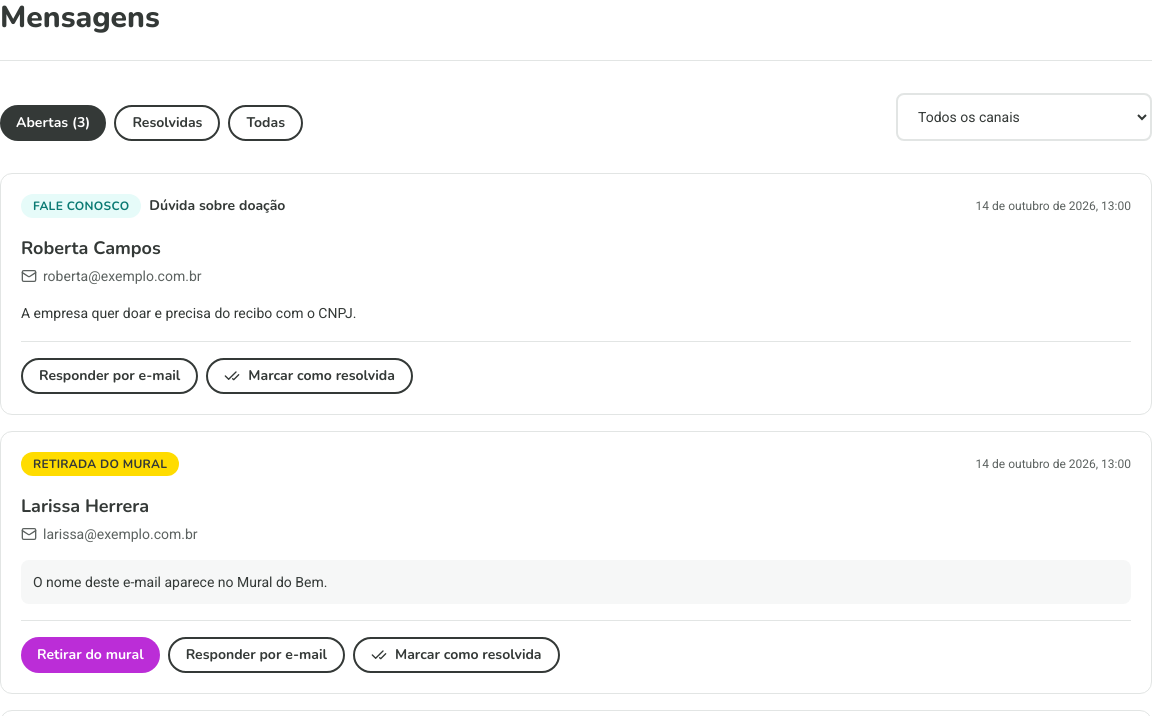
Test case: caixa de entrada do painel › retira do mural só o pedido cujo e-mail aparece nele, depois de confirmar
The image size is (1152, 716).
Click the button "Retirar do mural" at [90, 655], box [21,637,160,673]
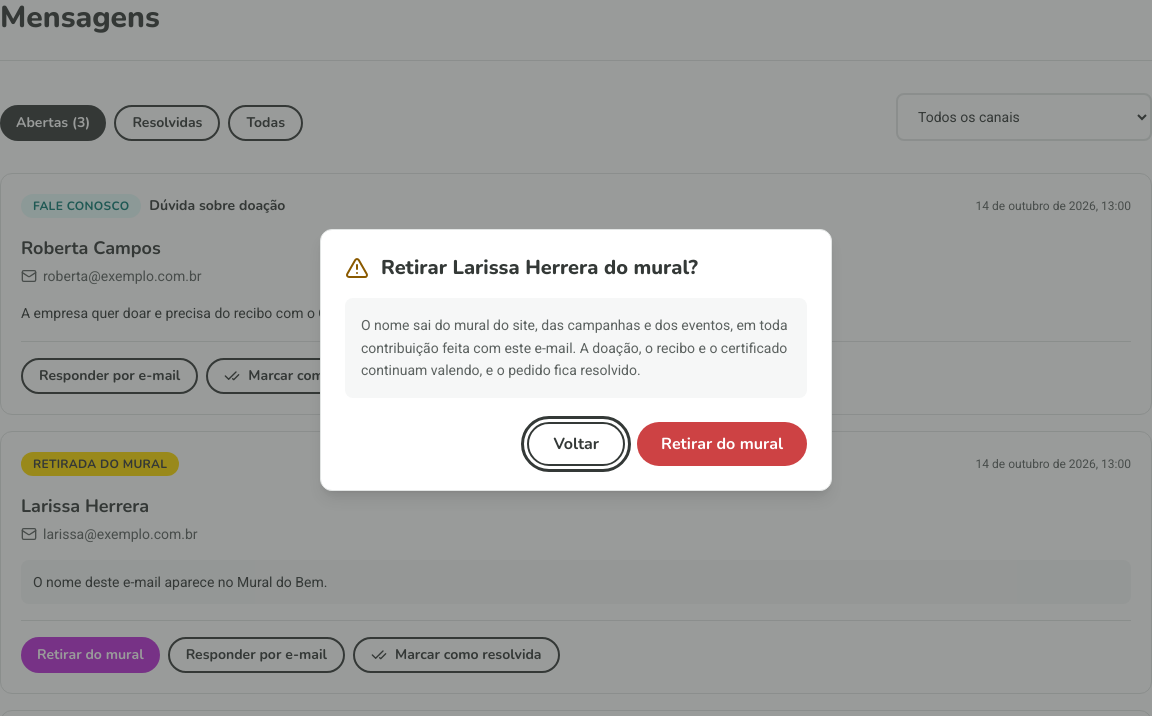
Result: the dialog "Retirar Larissa Herrera do mural" shows "o recibo e o certificado continuam valendo" at [361,317,788,378]
Click the button "Retirar do mural" at [722, 444], box [637,422,807,466]
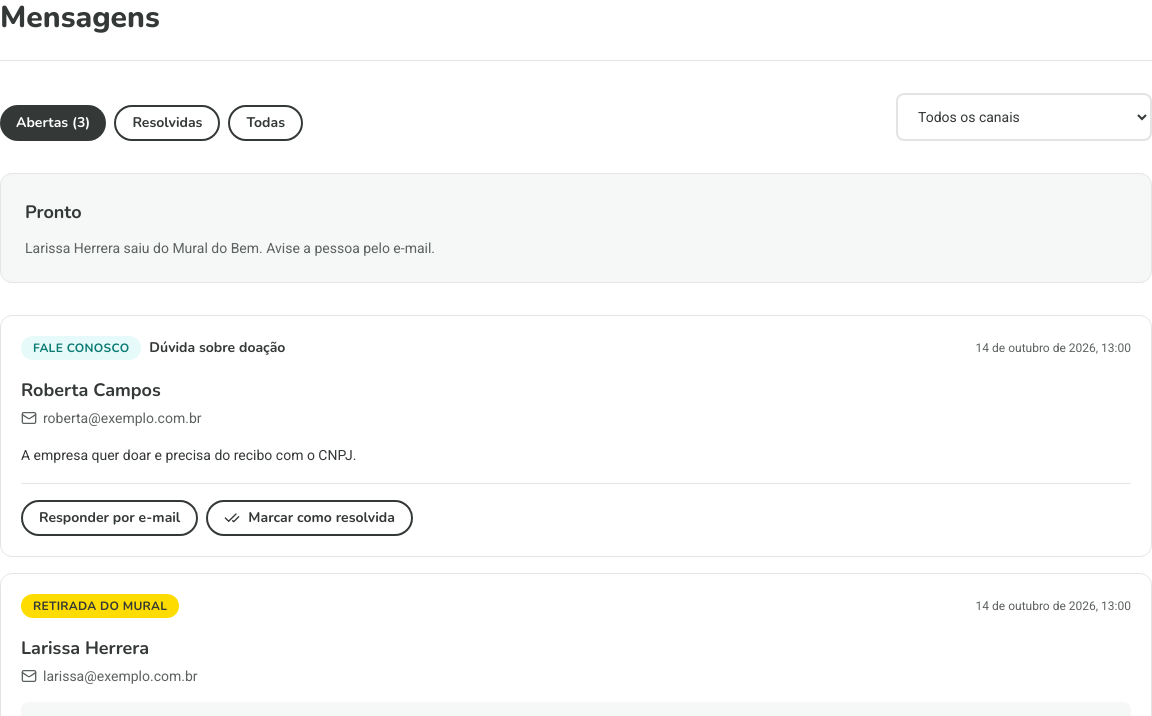
Result: the text "saiu do Mural do Bem" is shown at [25,240,435,256]
